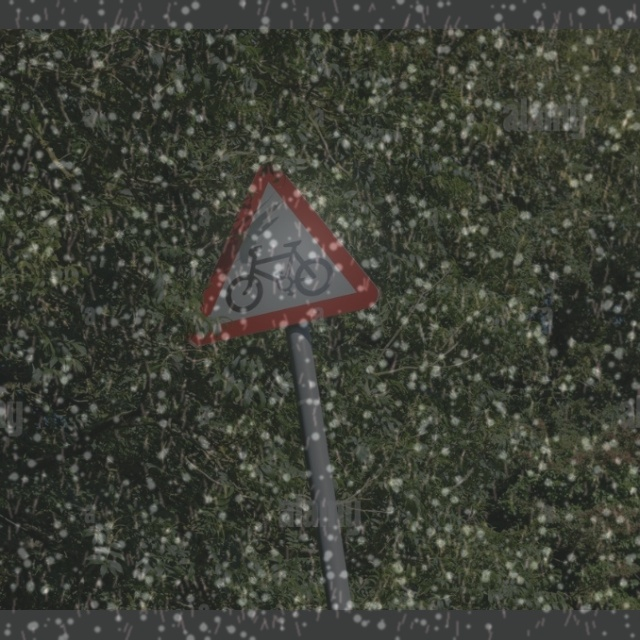Cycle_Crossing: (196, 162, 387, 335)
